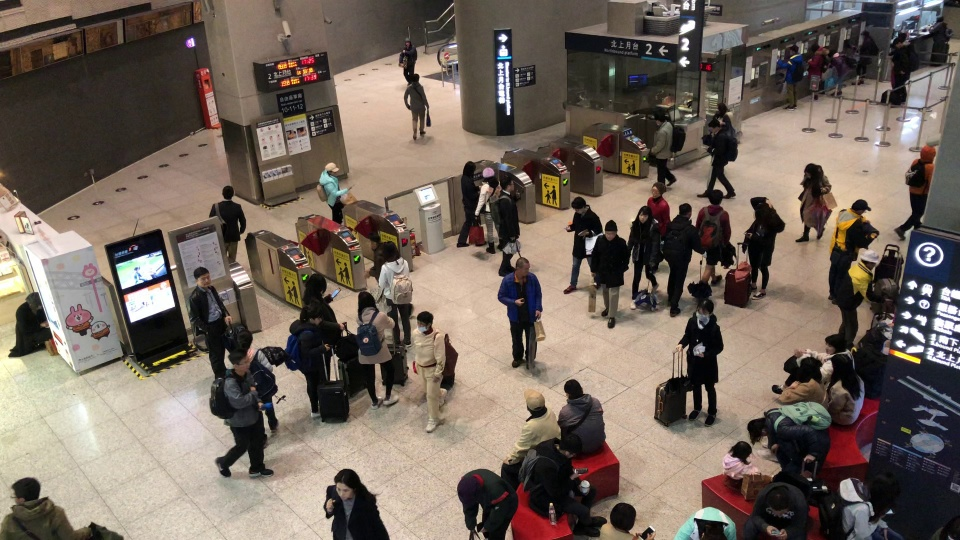person_head: (608, 500, 639, 533), (870, 472, 901, 505), (10, 476, 42, 504), (334, 468, 359, 500), (455, 474, 483, 502), (765, 486, 790, 515), (558, 433, 582, 458), (522, 387, 545, 413), (832, 354, 854, 381), (227, 349, 250, 373), (799, 357, 822, 381), (299, 302, 321, 325), (746, 417, 767, 441), (306, 273, 327, 295), (824, 333, 846, 354), (563, 378, 584, 399), (859, 248, 879, 270), (192, 265, 211, 288), (696, 298, 715, 321), (700, 524, 727, 540), (731, 440, 752, 460), (852, 198, 872, 217), (236, 329, 254, 349), (382, 241, 400, 261), (416, 311, 434, 331), (358, 291, 376, 310), (570, 195, 587, 214), (919, 143, 935, 163), (708, 187, 724, 205), (755, 202, 771, 220), (515, 256, 529, 276), (604, 219, 617, 240), (25, 291, 41, 308), (804, 163, 820, 180), (650, 181, 666, 198), (677, 202, 693, 219), (499, 175, 515, 191), (462, 160, 476, 178), (221, 185, 235, 200), (653, 110, 666, 125), (368, 233, 380, 249), (482, 166, 494, 182), (708, 118, 721, 131), (325, 161, 339, 173), (892, 35, 904, 48), (716, 103, 727, 115), (810, 42, 820, 54), (789, 44, 799, 54), (860, 29, 870, 39), (411, 73, 420, 83), (935, 14, 944, 22), (404, 37, 411, 47), (829, 50, 836, 57)
person_vbox: (518, 432, 607, 537), (208, 349, 275, 480), (674, 298, 725, 427), (745, 401, 831, 477), (817, 468, 903, 539), (1, 476, 91, 540), (411, 310, 458, 432), (827, 198, 879, 305), (355, 290, 401, 410), (283, 302, 330, 418), (184, 266, 232, 379), (496, 257, 543, 372), (771, 333, 855, 396), (499, 386, 561, 465), (323, 467, 390, 540), (833, 247, 880, 351), (742, 470, 810, 540), (662, 202, 703, 318), (741, 194, 785, 302), (235, 328, 279, 434), (456, 467, 519, 540), (301, 273, 344, 379), (589, 219, 630, 330), (363, 233, 414, 322), (562, 195, 604, 295), (892, 144, 935, 240), (557, 377, 606, 457), (377, 241, 413, 349), (695, 188, 733, 289), (695, 117, 739, 200), (487, 175, 521, 276), (793, 162, 833, 242), (647, 109, 686, 188), (7, 291, 52, 359), (208, 185, 247, 261), (826, 353, 865, 428), (455, 160, 487, 248), (778, 357, 829, 408), (474, 166, 503, 254), (315, 161, 353, 224), (672, 506, 737, 540), (600, 501, 657, 539), (890, 36, 918, 106), (776, 44, 805, 111), (721, 440, 760, 489), (403, 73, 429, 139), (851, 27, 878, 86), (806, 42, 830, 103), (646, 181, 671, 239), (828, 50, 855, 98), (398, 36, 419, 86), (928, 13, 954, 44), (713, 103, 737, 134)
